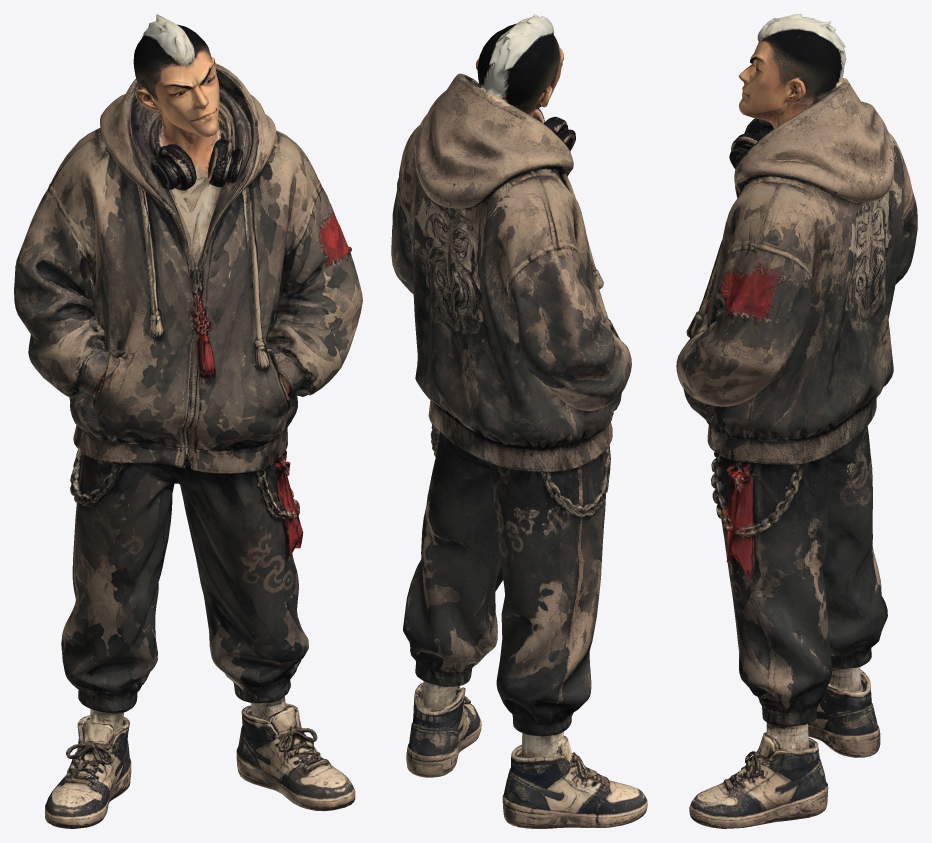
File: jie.glb
3 views of the same model, side by side, from view 1: azimuth 30°, elevation 25°; view 2: azimuth 150°, elevation 25°; view 3: azimuth 270°, elevation 25° (orthographic). The views are drawn at different scales.
Size of the model in its own units: 0.7045 by 1.9 by 0.5536.
1 material, 1 textured.
